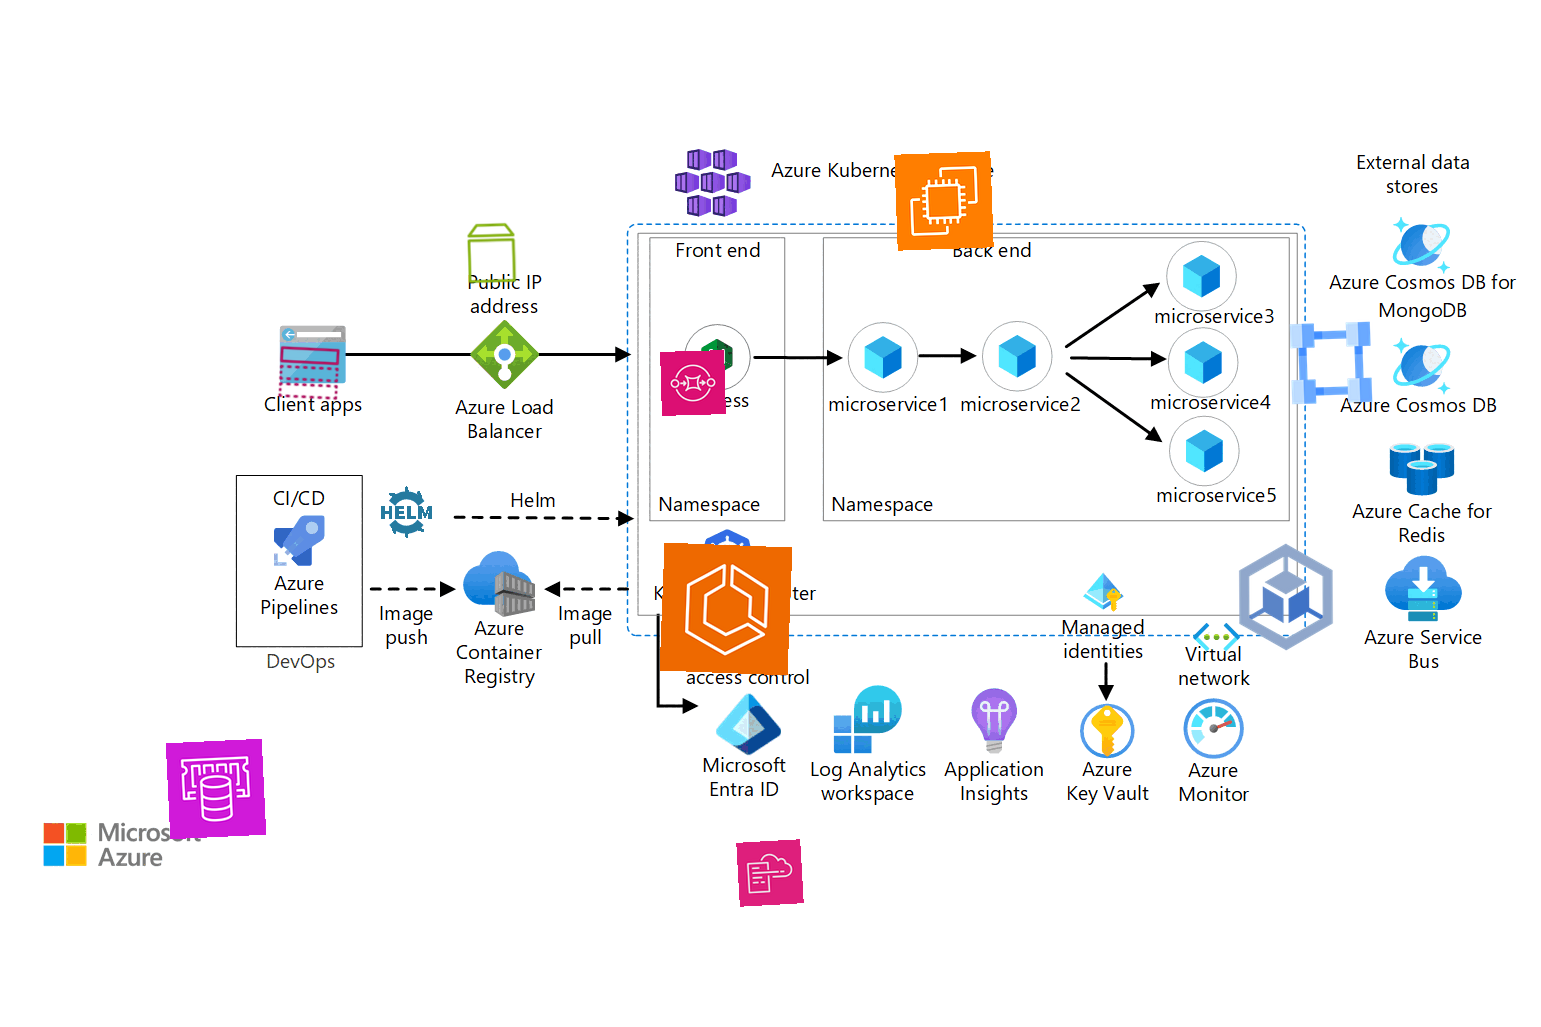aws_amazon_ec2: (894, 151, 994, 251)
aws_amazon_elastic_container_service: (659, 542, 793, 676)
aws_amazon_elasticache: (165, 738, 267, 840)
aws_amazon_simple_queue_service: (660, 350, 726, 416)
aws_cloudformation: (736, 839, 804, 907)
aws_elastic_block_store_volume: (459, 220, 525, 287)
aws_simple_notification_service_topic: (275, 339, 343, 407)
gcp_google_kubernetes_engine: (1221, 532, 1351, 663)
gcp_virtual_private_cloud: (1281, 313, 1381, 413)
